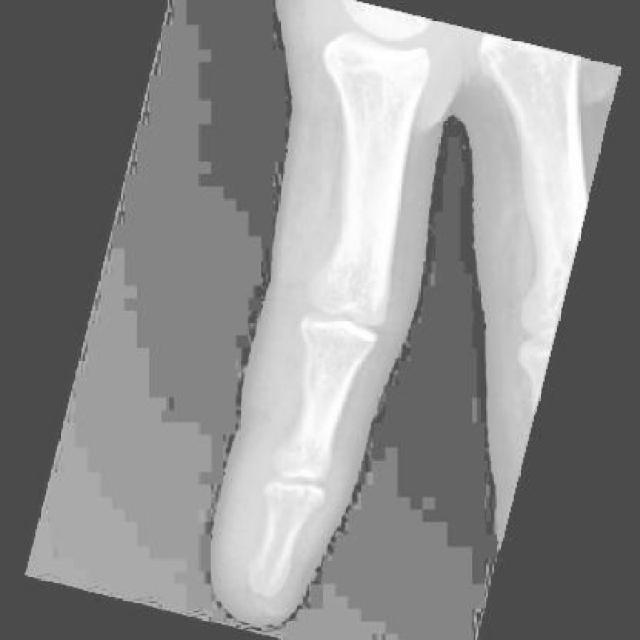Fracture: (238, 474, 311, 600)
